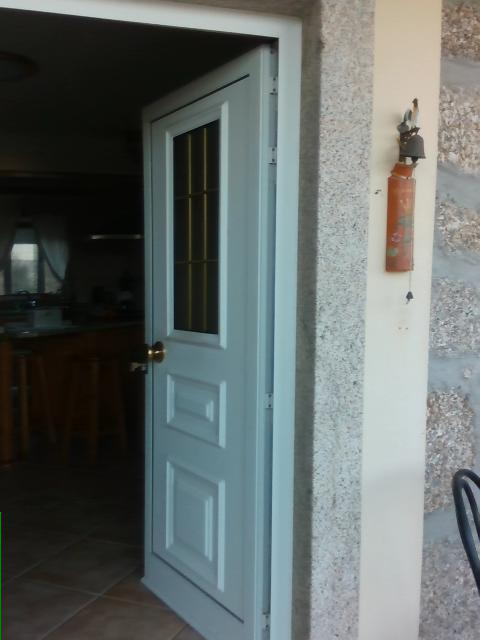door: (141, 40, 272, 640)
